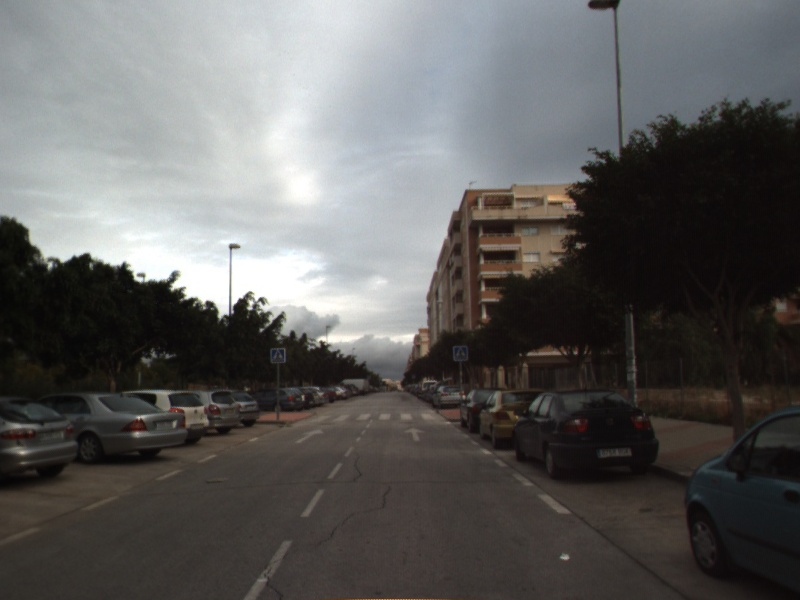STRAIGHT: (292, 427, 326, 445), (402, 425, 428, 443)
